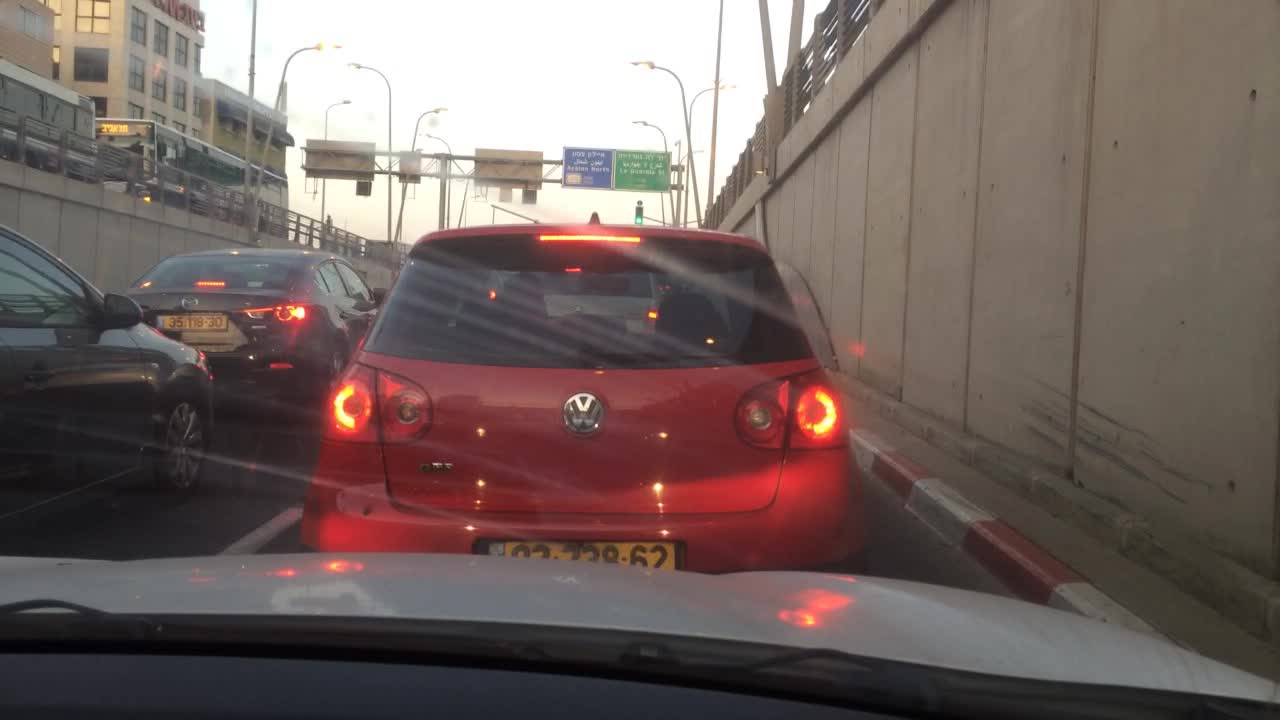bus: (95, 114, 290, 239), (0, 54, 98, 185)
car: (300, 210, 869, 580), (0, 221, 216, 503), (114, 246, 379, 430)
traffic light: (633, 199, 643, 225)
traffic sign: (472, 145, 541, 190), (303, 137, 374, 178), (615, 152, 672, 193), (561, 146, 613, 188), (400, 148, 422, 183), (522, 186, 537, 205), (499, 184, 513, 204), (357, 180, 374, 194)
